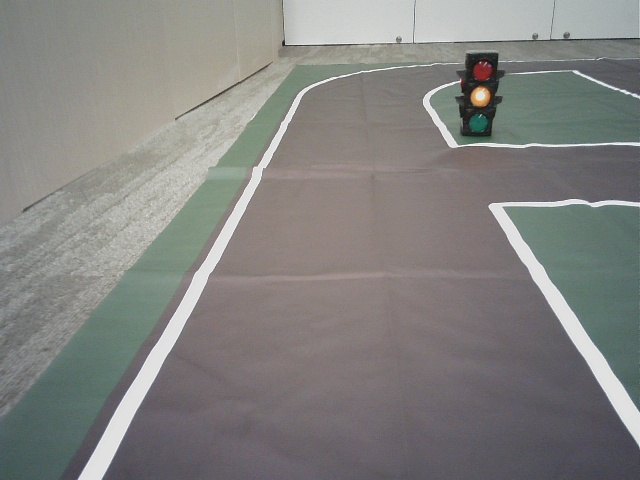yellow: (464, 57, 494, 134)
